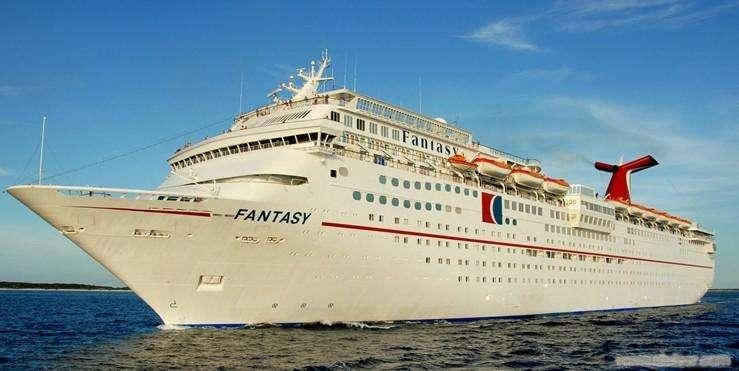youlun: (4, 52, 718, 325)
